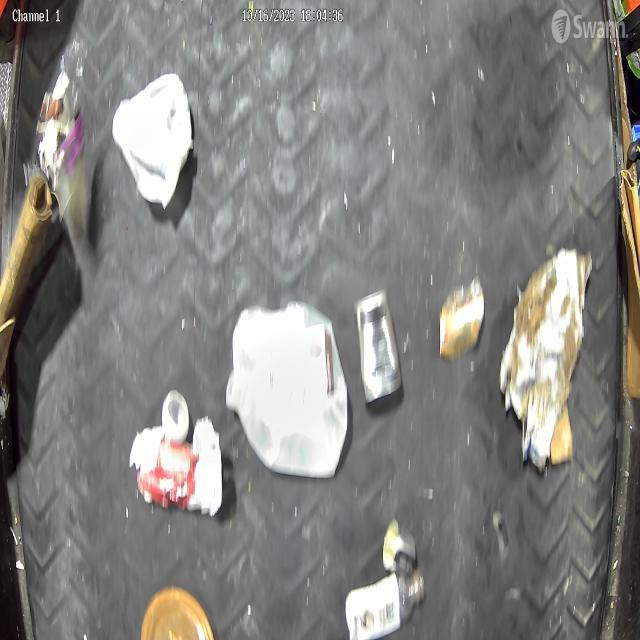can: (356, 290, 402, 406), (440, 277, 484, 359), (382, 520, 417, 574)
milk_jug: (226, 303, 349, 478), (112, 72, 192, 210)
